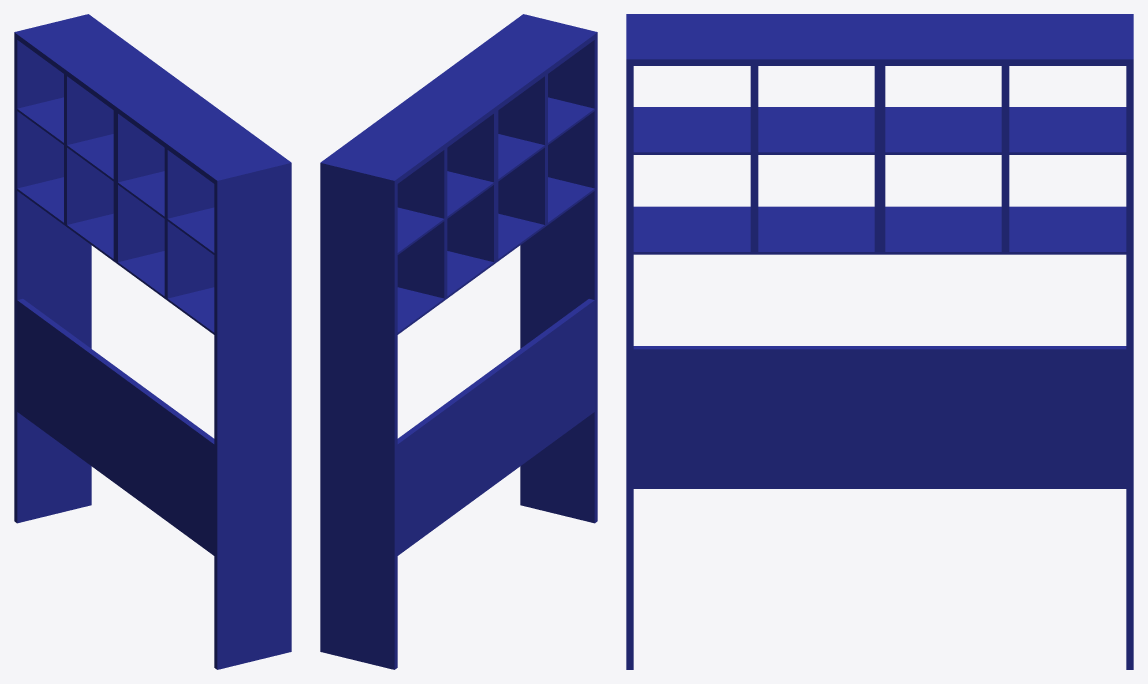
Rendered from librero.obj.
The picture shows the model from 3 angles, left to right: view 1: azimuth 30°, elevation 25°; view 2: azimuth 150°, elevation 25°; view 3: azimuth 270°, elevation 25°; orthographic projection. The views are drawn at different scales.
Visible parts, largest first — view 1: Plane; view 2: Plane; view 3: Plane.
Part boxes in pixels (x1=…): Plane: x1=14, y1=14, x2=291, y2=669; Plane: x1=320, y1=14, x2=597, y2=669; Plane: x1=626, y1=14, x2=1133, y2=669.
Size of the model in its own units: 0.349 by 2.19 by 1.65.
